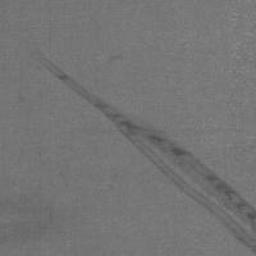Water spot: (32, 50, 256, 256)
